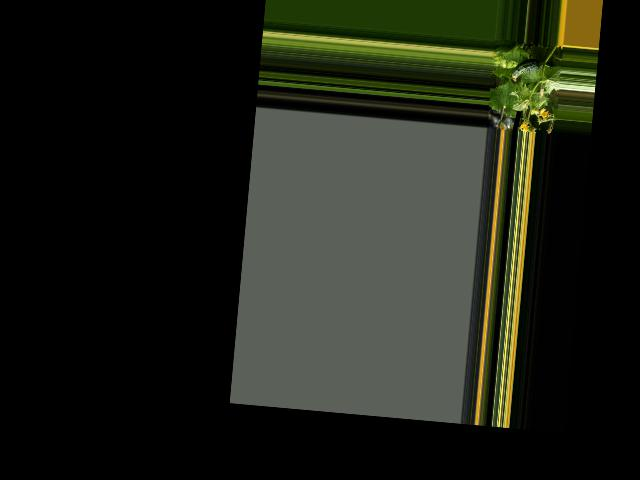cucumber: (511, 57, 541, 84)
